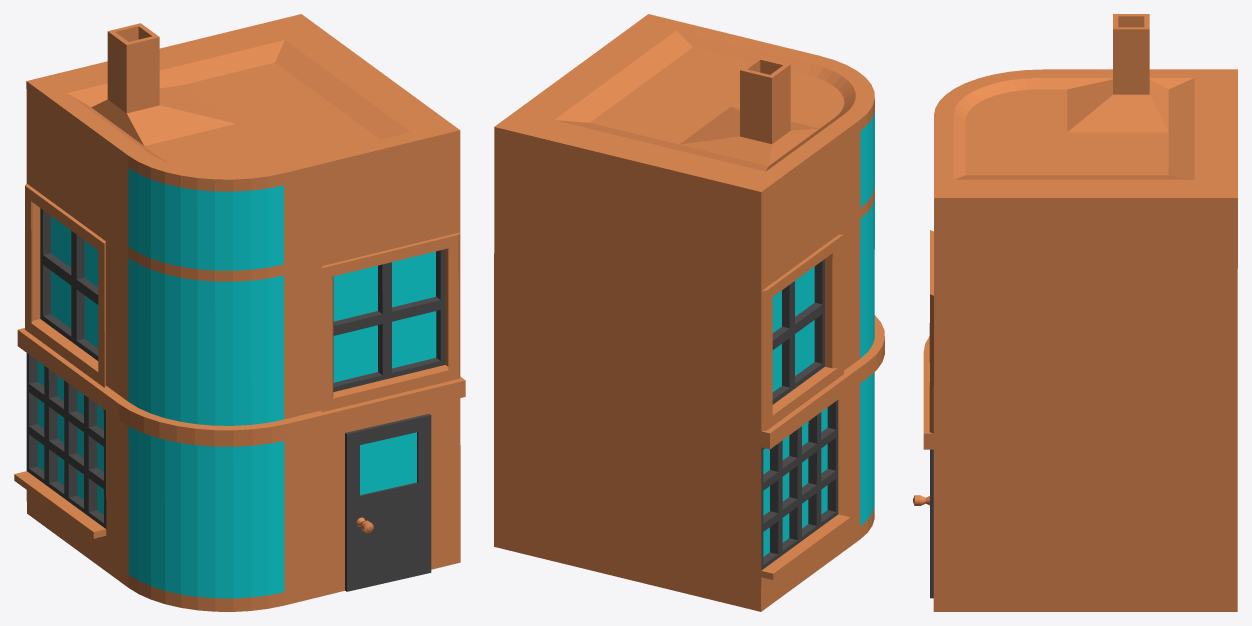
File: Orange curved building.fbx
3 views of the same model, side by side, from view 1: azimuth 30°, elevation 25°; view 2: azimuth 150°, elevation 25°; view 3: azimuth 270°, elevation 25° (orthographic). The views are drawn at different scales.
Visible parts, largest first — view 1: Cube.005, Cube.009; view 2: Cube.005; view 3: Cube.005, Cube.009.
Part boxes in pixels (x1=…): Cube.005: x1=14, y1=14, x2=465, y2=611; Cube.009: x1=345, y1=414, x2=431, y2=591; Cube.005: x1=494, y1=14, x2=884, y2=611; Cube.005: x1=923, y1=14, x2=1237, y2=611; Cube.009: x1=930, y1=449, x2=933, y2=598.
Bounding box in the file's own units: 2090 × 3532 × 2135.
